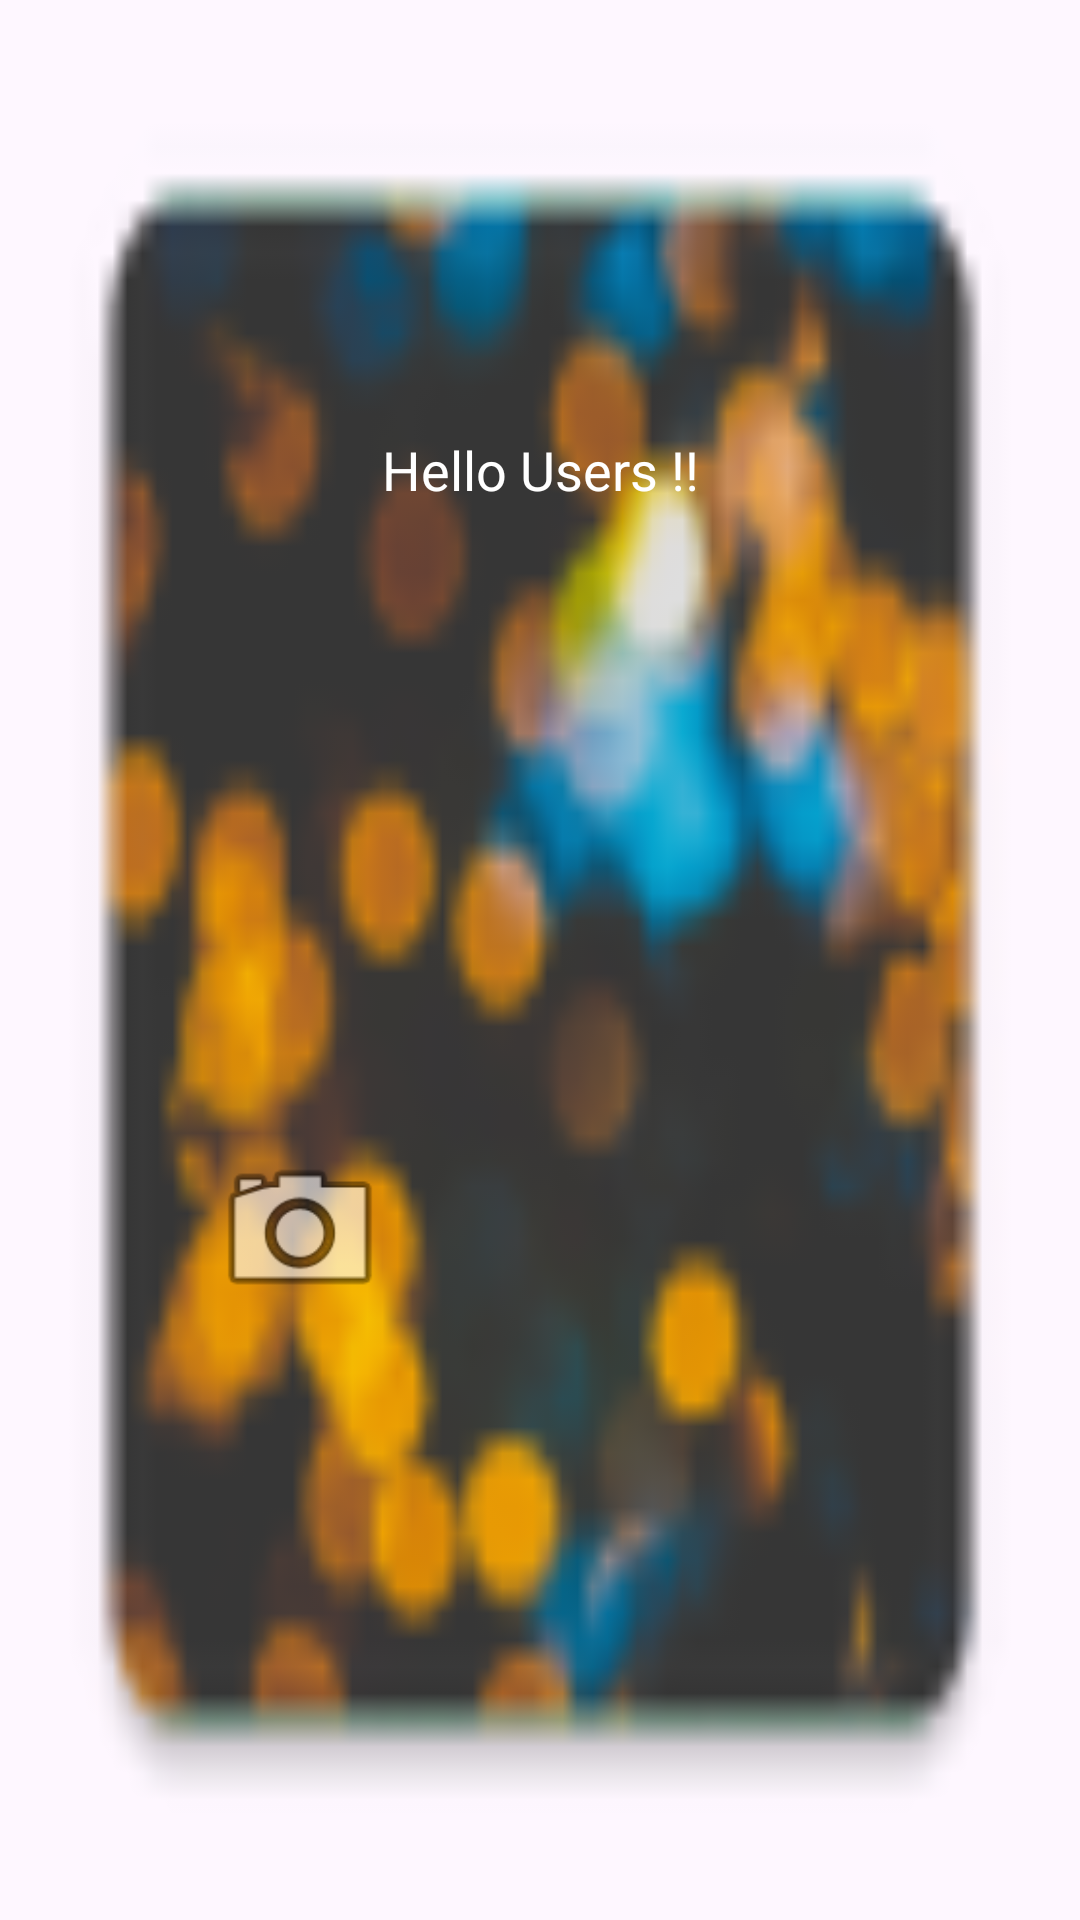

Screen size 1080px x 1920px. Icon name, then its center in pixels as (x,y):
camera: (300,1230)
